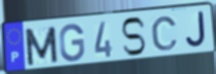4: (94, 20, 114, 58)
C: (150, 15, 180, 53)
G: (59, 22, 87, 63)
J: (184, 10, 208, 50)
M: (23, 25, 60, 67)
S: (119, 16, 147, 58)
